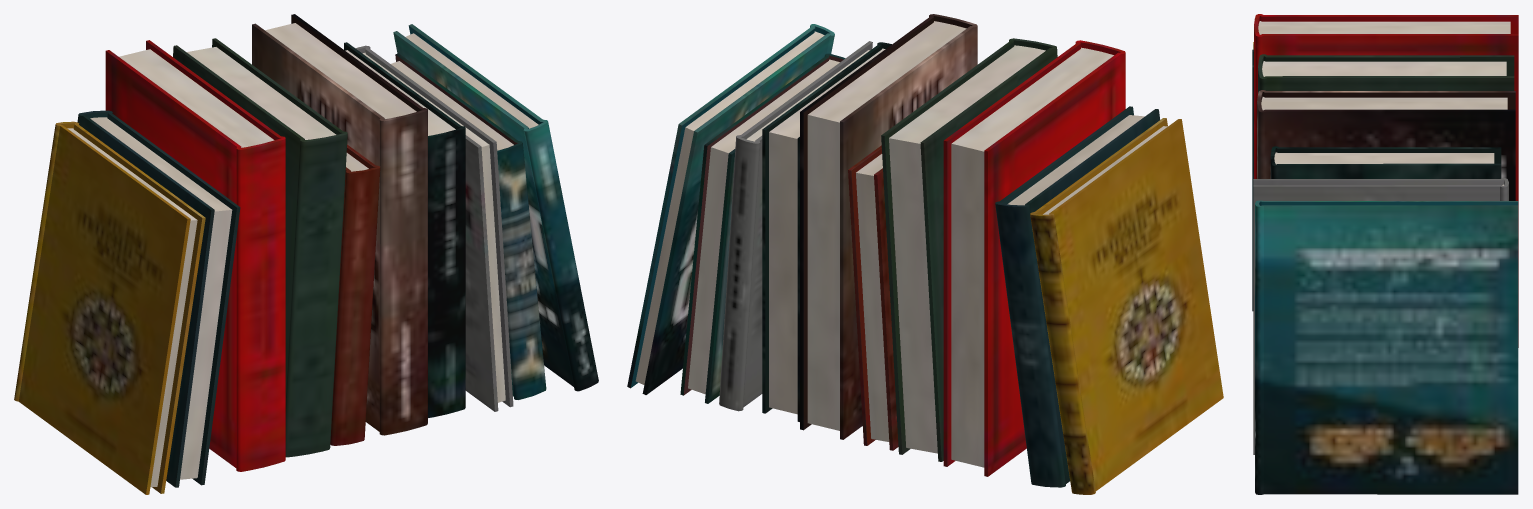
Rendered from cargo_books_b.glb.
3 renders of one model, left to right at view 1: azimuth 30°, elevation 25°; view 2: azimuth 150°, elevation 25°; view 3: azimuth 270°, elevation 25°, orthographic. The views are drawn at different scales.
Parts seen in each view (by area): view 1: KB3D_API_PropBookset_B_Main; view 2: KB3D_API_PropBookset_B_Main; view 3: KB3D_API_PropBookset_B_Main.
Part boxes in pixels (x1=…): KB3D_API_PropBookset_B_Main: x1=14, y1=14, x2=598, y2=494; KB3D_API_PropBookset_B_Main: x1=627, y1=14, x2=1223, y2=494; KB3D_API_PropBookset_B_Main: x1=1252, y1=14, x2=1518, y2=494.
Size of the model in its own units: 0.3928 by 0.2661 by 0.2043.
Materials: 1 (1 with a texture image).
